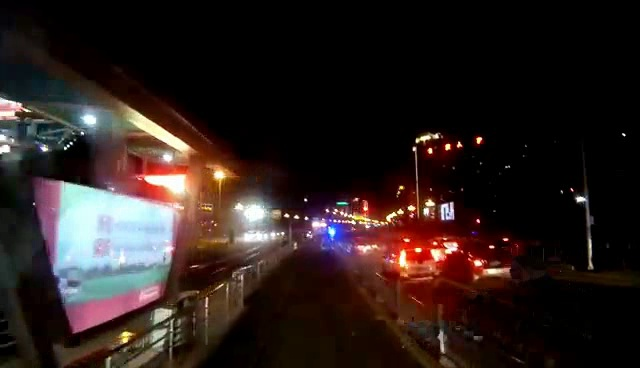car: (460, 242, 514, 278), (387, 245, 439, 280), (353, 235, 381, 258)
